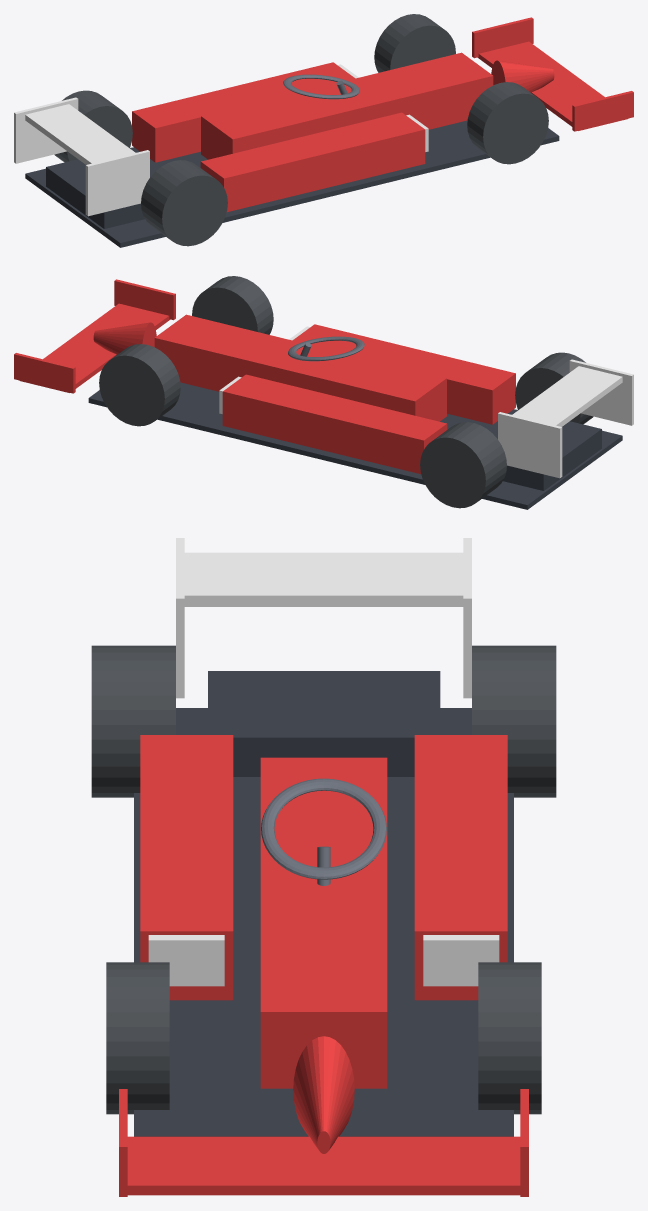
Rendered from 2024_ground_effect.glb.
3 renders of one model, top to bottom at view 1: azimuth 30°, elevation 25°; view 2: azimuth 150°, elevation 25°; view 3: azimuth 270°, elevation 25°, orthographic. The views are drawn at different scales.
Visible parts, largest first — view 1: chassis_monocoque, sidepod_downwash_right, chassis_venturi_floor, sidepod_downwash_left, wheel_rr_tire, wheel_fr_tire, rear_wing_mainplane, wheel_fl_tire, rear_wing_endplate_right, front_wing_swept, floor_diffuser_exit, wheel_rl_tire (+5 smaller); view 2: chassis_monocoque, sidepod_downwash_left, chassis_venturi_floor, sidepod_downwash_right, wheel_rl_tire, wheel_fl_tire, rear_wing_mainplane, wheel_fr_tire, rear_wing_endplate_left, front_wing_swept, floor_diffuser_exit, wheel_rr_tire (+5 smaller); view 3: chassis_venturi_floor, chassis_monocoque, front_wing_swept, sidepod_downwash_left, sidepod_downwash_right, floor_diffuser_exit, rear_wing_mainplane, wheel_rl_tire, wheel_rr_tire, wheel_fl_tire, wheel_fr_tire, chassis_swept_nose (+7 smaller).
Boxes of the visible parts, x1,y1,x2,y2 form: chassis_monocoque: (201,52,493,159); sidepod_downwash_right: (200,112,425,212); chassis_venturi_floor: (25,120,559,247); sidepod_downwash_left: (132,62,355,162); wheel_rr_tire: (141,160,227,246); wheel_fr_tire: (467,82,548,164); rear_wing_mainplane: (25,104,135,164); wheel_fl_tire: (374,14,455,72); rear_wing_endplate_right: (85,150,149,216); front_wing_swept: (477,41,627,130); floor_diffuser_exit: (46,159,150,228); wheel_rl_tire: (54,90,132,162); chassis_monocoque: (154,314,446,421); sidepod_downwash_left: (222,374,447,474); chassis_venturi_floor: (88,382,622,509); sidepod_downwash_right: (292,324,515,424); wheel_rl_tire: (420,422,506,508); wheel_fl_tire: (99,344,180,426); rear_wing_mainplane: (512,366,622,426); wheel_fr_tire: (192,276,273,334); rear_wing_endplate_left: (498,412,562,478); front_wing_swept: (20,303,170,392); floor_diffuser_exit: (497,421,601,490); wheel_rr_tire: (515,352,593,424); chassis_venturi_floor: (134,708,513,1136); chassis_monocoque: (260,757,387,1088); front_wing_swept: (127,1136,520,1195); sidepod_downwash_left: (414,735,507,1000); sidepod_downwash_right: (140,735,233,1000); floor_diffuser_exit: (208,671,440,776); rear_wing_mainplane: (184,552,463,606); wheel_rl_tire: (472,645,556,797); wheel_rr_tire: (91,645,175,797); wheel_fl_tire: (478,962,541,1114); wheel_fr_tire: (106,962,169,1114); chassis_swept_nose: (293,1036,354,1153).
Size of the model in its own units: 5.82 by 0.88 by 2.2.
